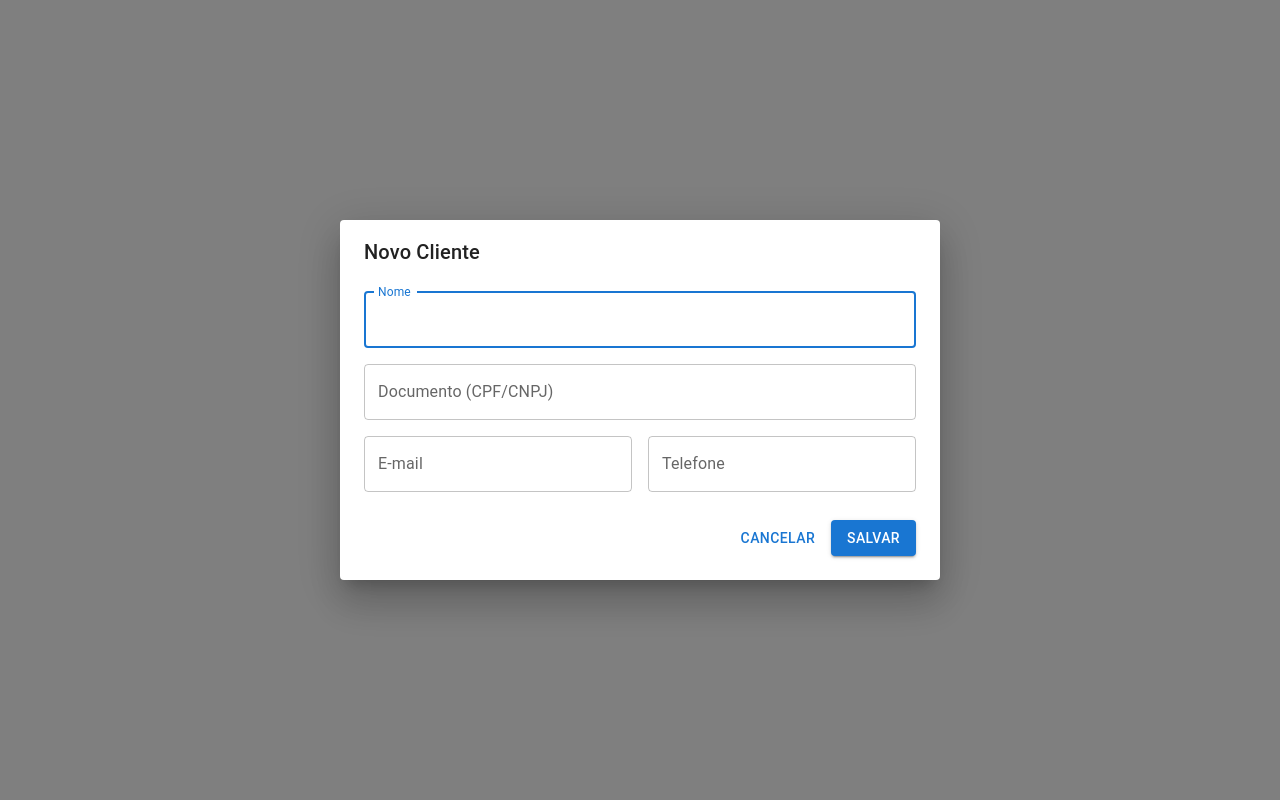
Test case: CustomerFormDialog › deve exibir mensagens de validação e não enviar, quando campos obrigatórios estão vazios
The width and height of the screenshot is (1280, 800).
Click the button "Salvar": (874, 538) [831,520,916,556]
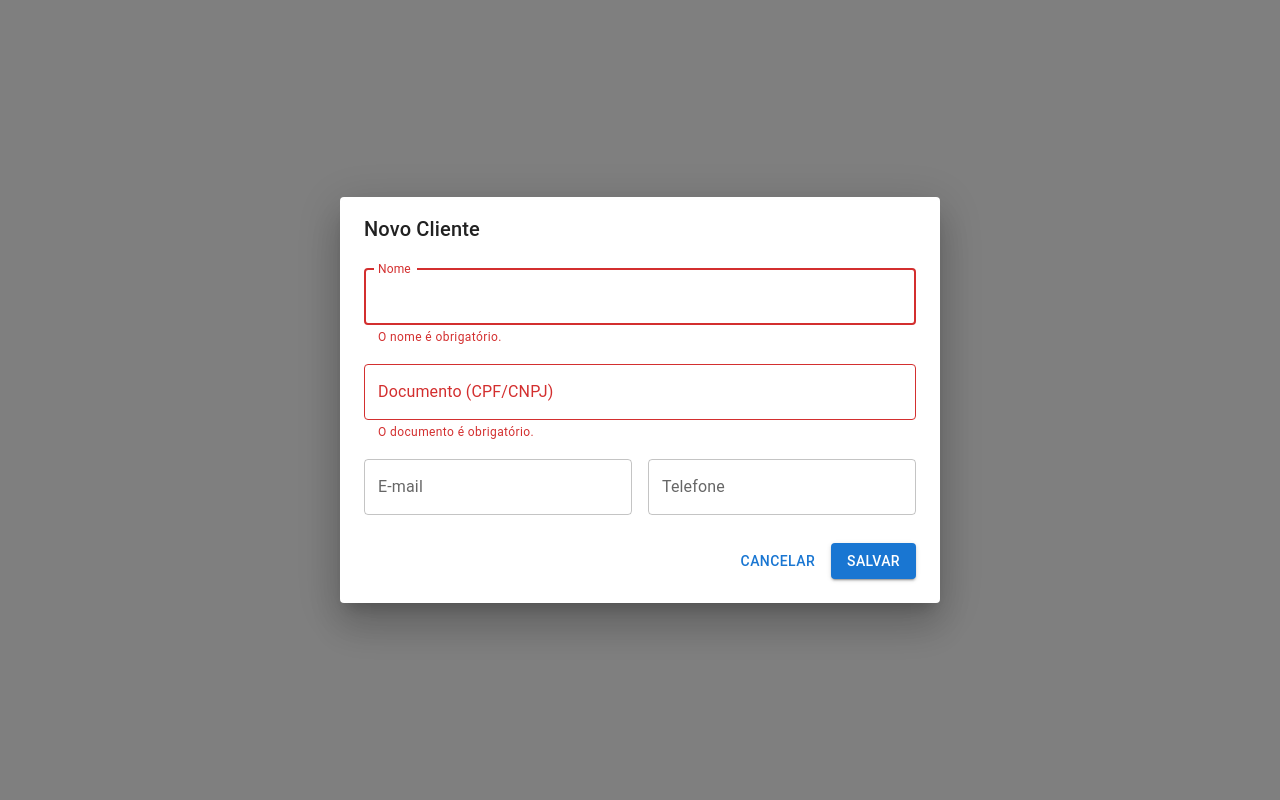
Check: the text "O nome é obrigatório." is shown, box [378,330,502,344]
Check: the text "O documento é obrigatório." is shown, box [378,425,534,439]
